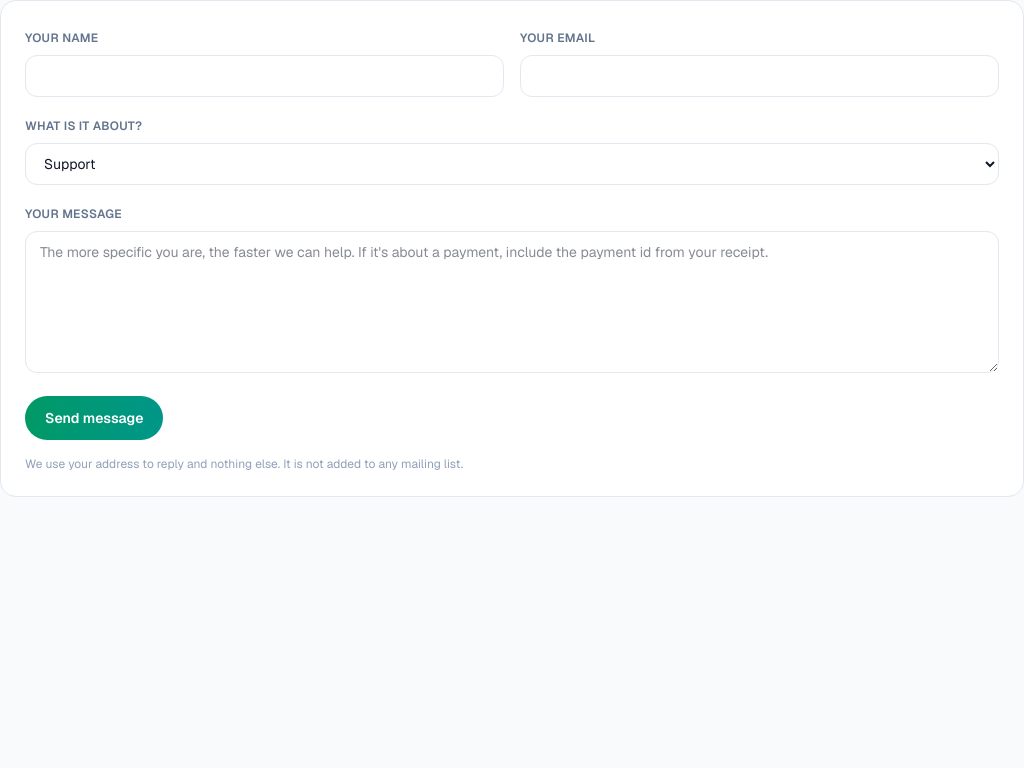
Scenario: ContactForm › shows the reason the server gave for refusing
In the field labelled "Your name": (264, 76) [25, 55, 504, 97], type "Aarav Sharma"
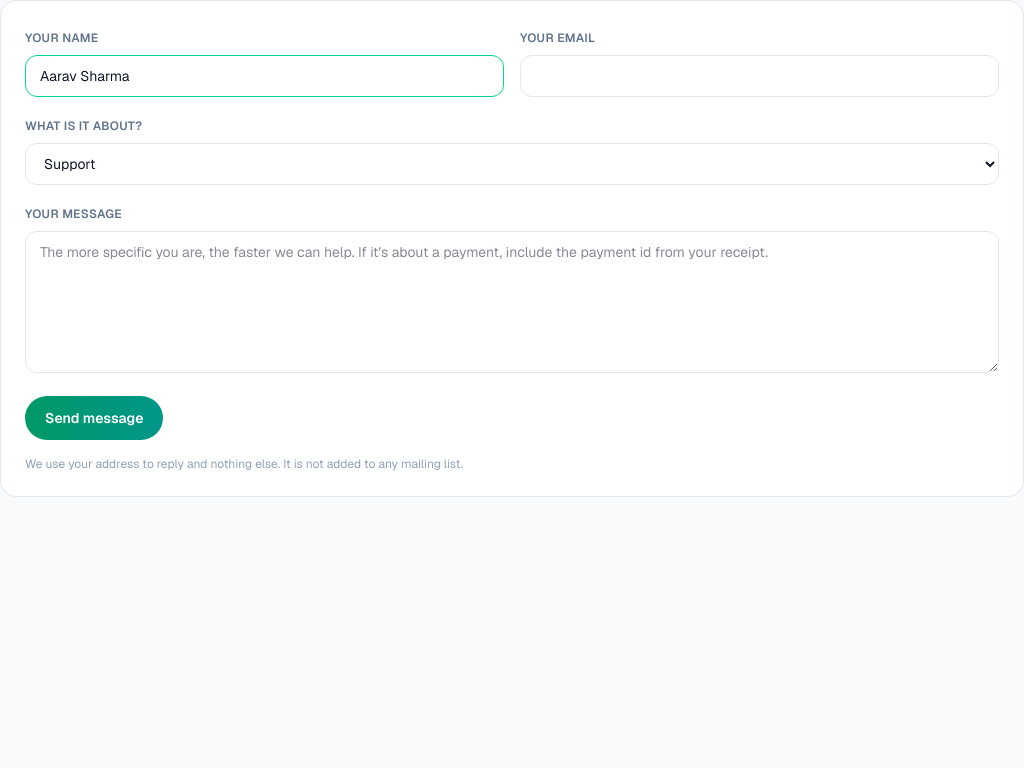
In the field labelled "Your email": (760, 76) [520, 55, 999, 97], type "aarav@example.com"
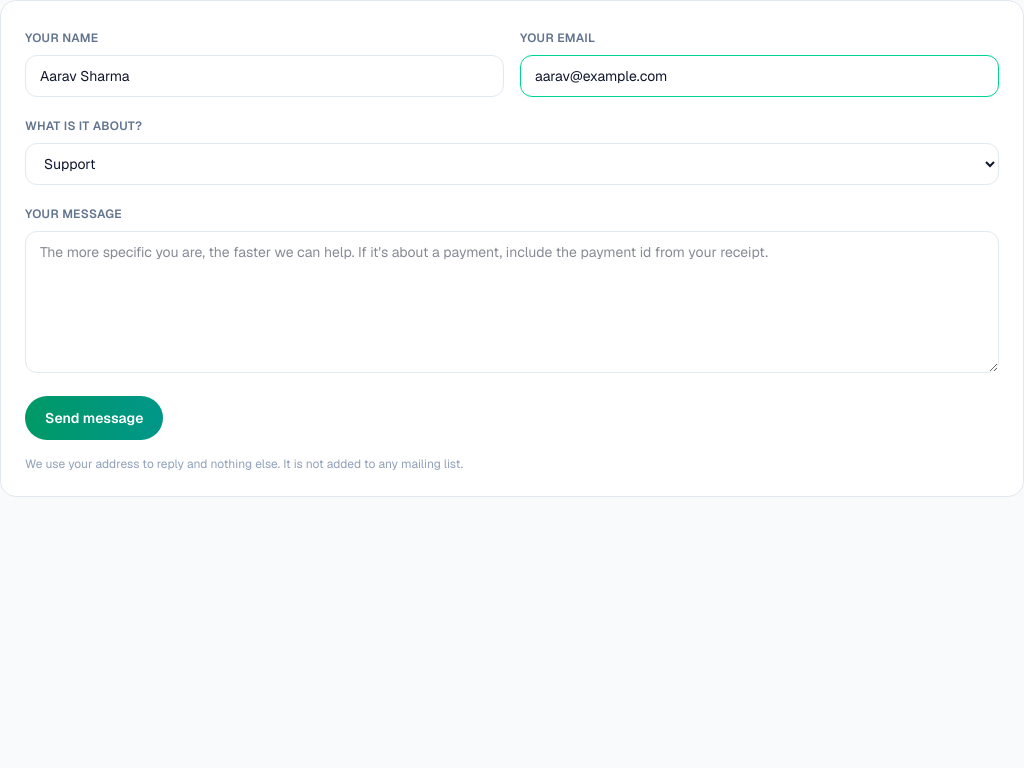
In the text box labelled "Your message": (512, 302) [25, 231, 999, 373], type "The one-year return on the movers board looks wrong for RELIANCE."
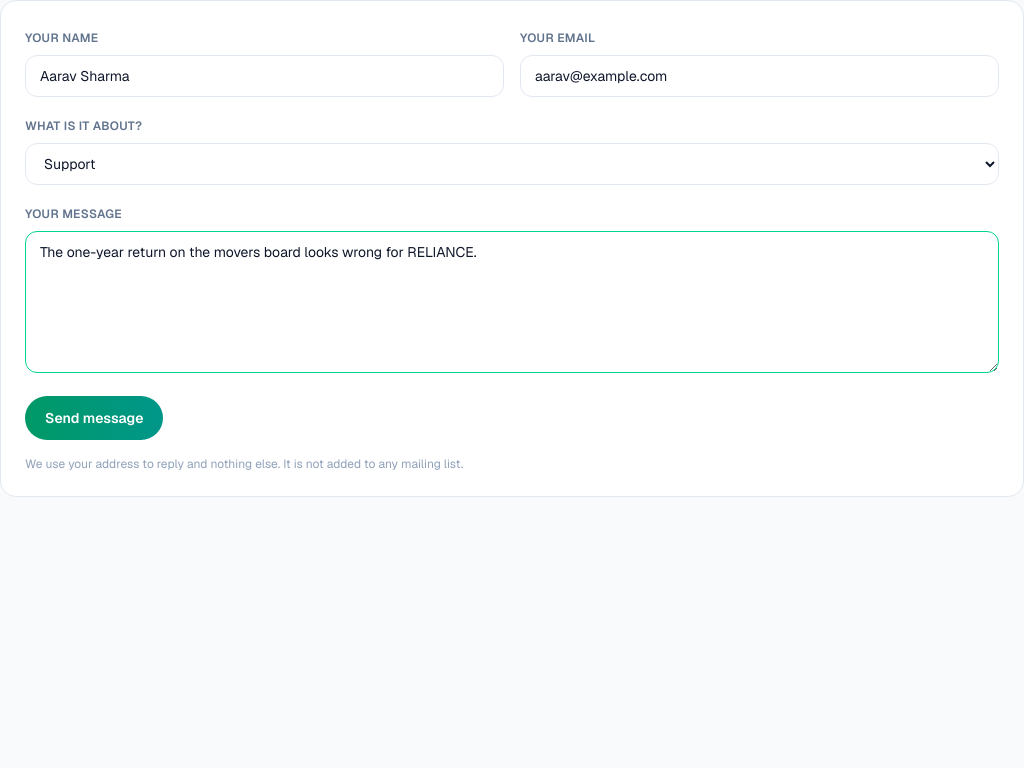
Click the button "Send message": (94, 418) [25, 396, 163, 440]
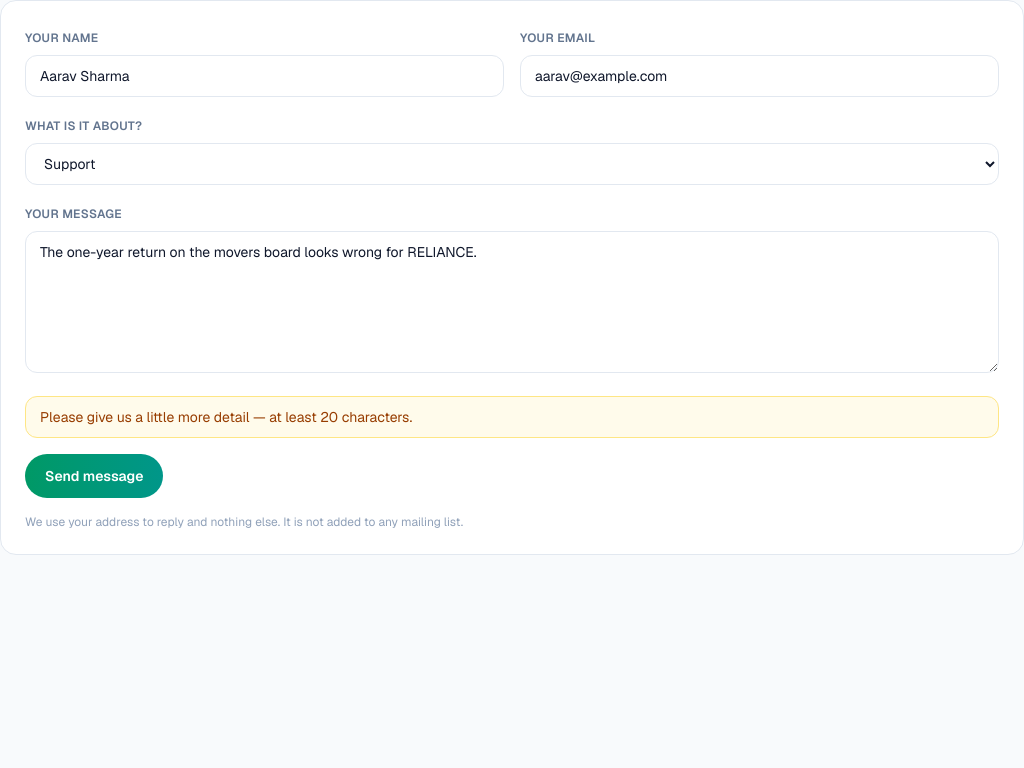
expect the message shows "at least 20 characters": met, box [40, 408, 412, 426]
